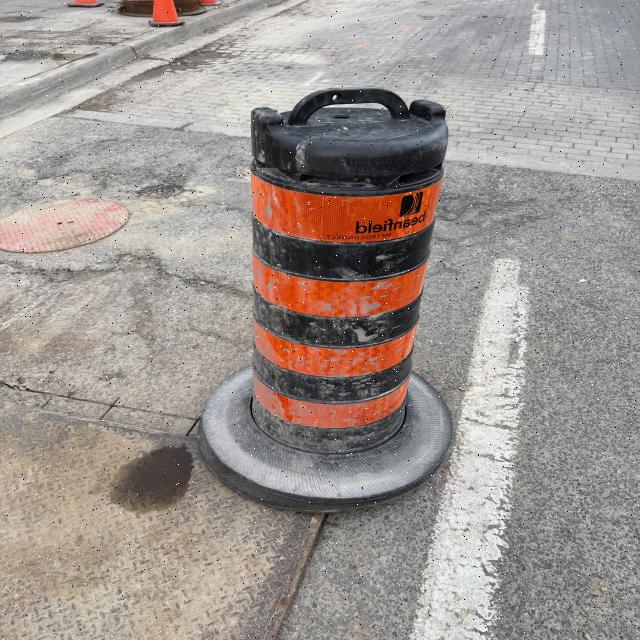Teraffic Barrel: (199, 88, 452, 511), (149, 0, 184, 27)
